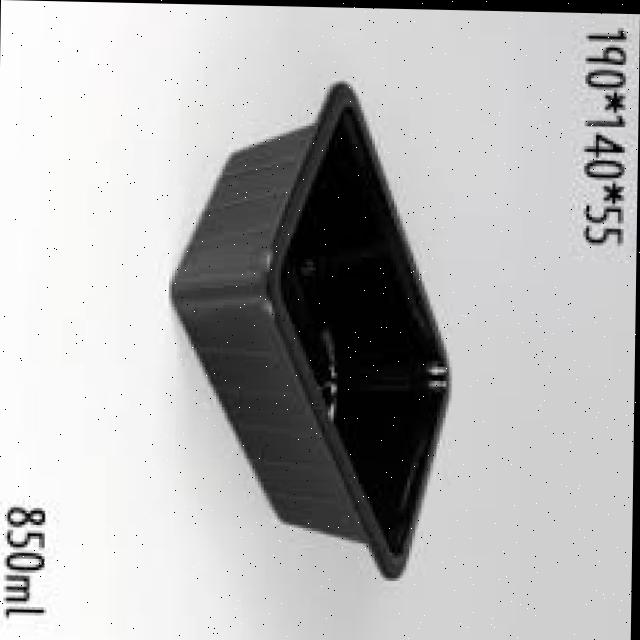disposable: (151, 70, 479, 586)
